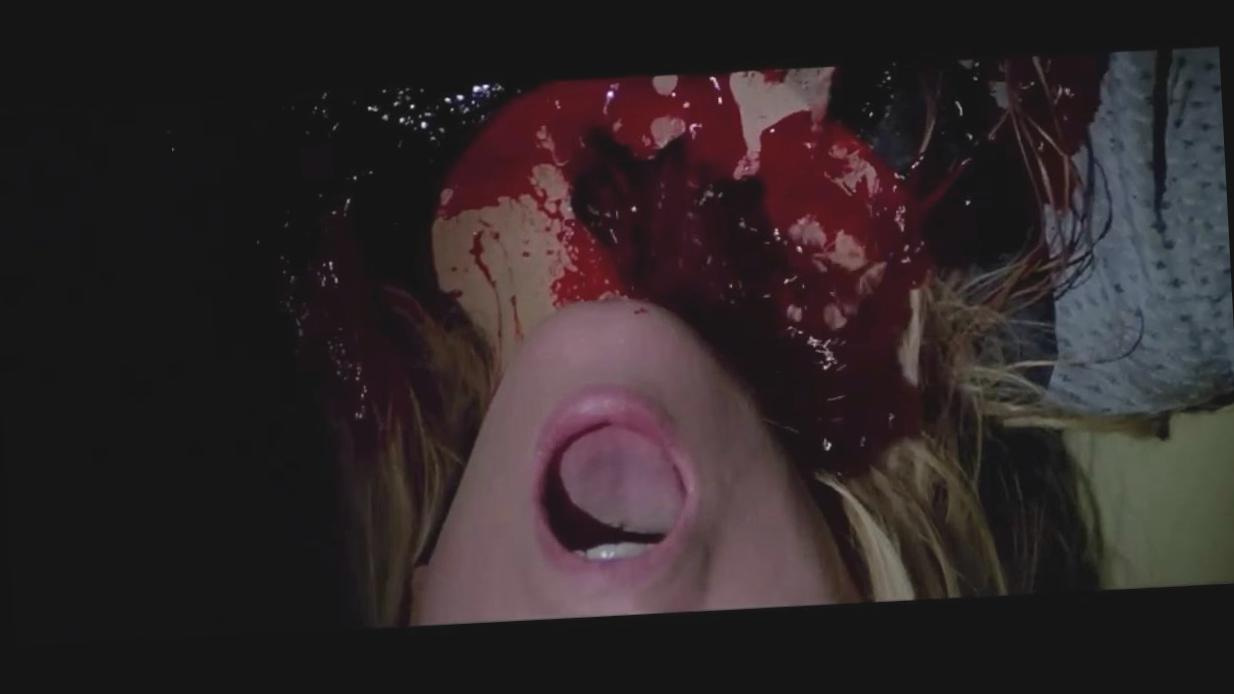Fire: (283, 52, 1109, 559)
